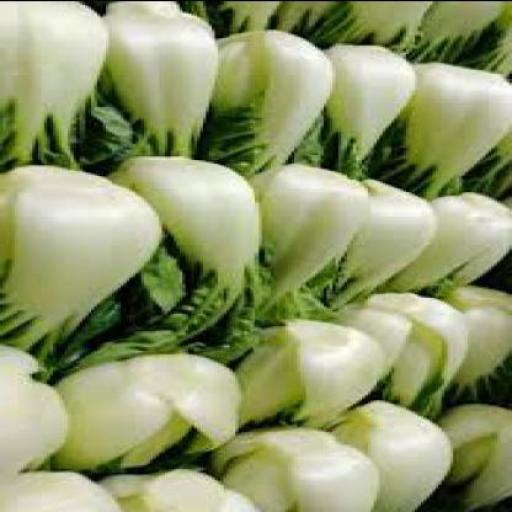biodegradable: (79, 159, 268, 362), (2, 166, 165, 382), (56, 353, 248, 477), (79, 1, 221, 166), (208, 30, 342, 177), (256, 162, 370, 325), (3, 1, 109, 166), (244, 320, 394, 431), (347, 296, 474, 418), (309, 46, 421, 180), (214, 428, 384, 511), (403, 64, 507, 198), (334, 402, 456, 511), (341, 178, 442, 304), (412, 191, 506, 294), (2, 344, 74, 477), (435, 405, 512, 511), (448, 286, 512, 406), (100, 469, 270, 511), (406, 2, 510, 66), (315, 2, 436, 56), (2, 472, 127, 510), (464, 134, 511, 206), (268, 2, 344, 46), (182, 2, 283, 34), (464, 14, 511, 80), (362, 129, 415, 180)
